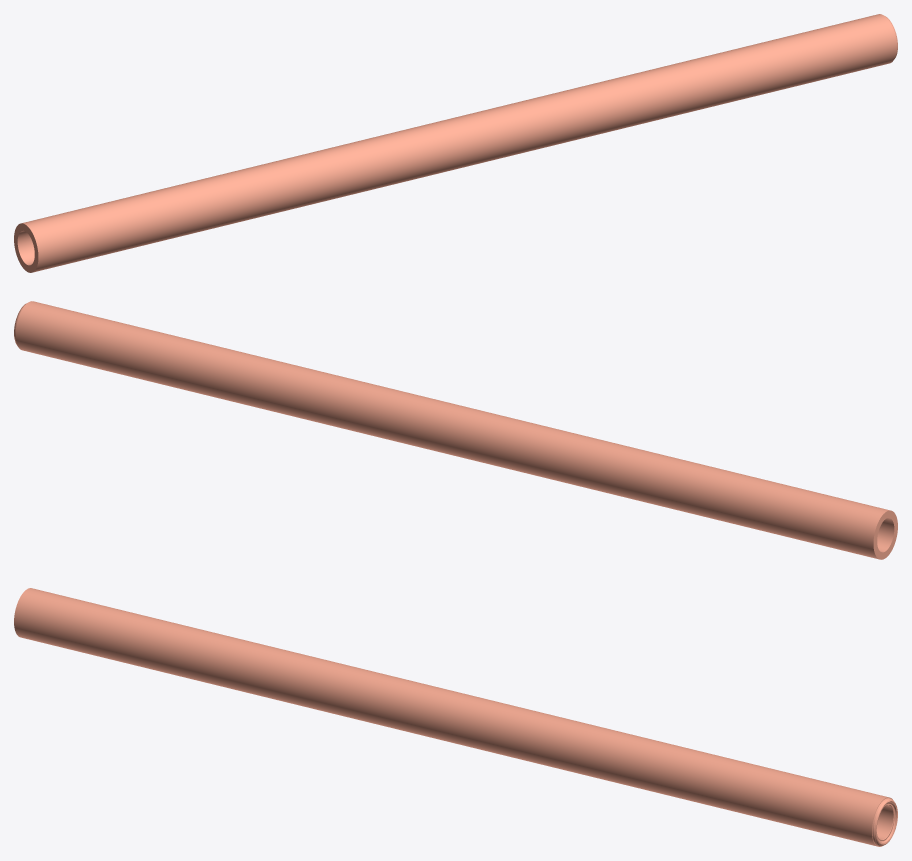
The model's file is maquette.glb.glb.
3 views of the same model, one above another, from view 1: azimuth 30°, elevation 25°; view 2: azimuth 150°, elevation 25°; view 3: azimuth 330°, elevation 25° (orthographic).
Size of the model in its own units: 0.0231 by 0.00118 by 0.00114.
